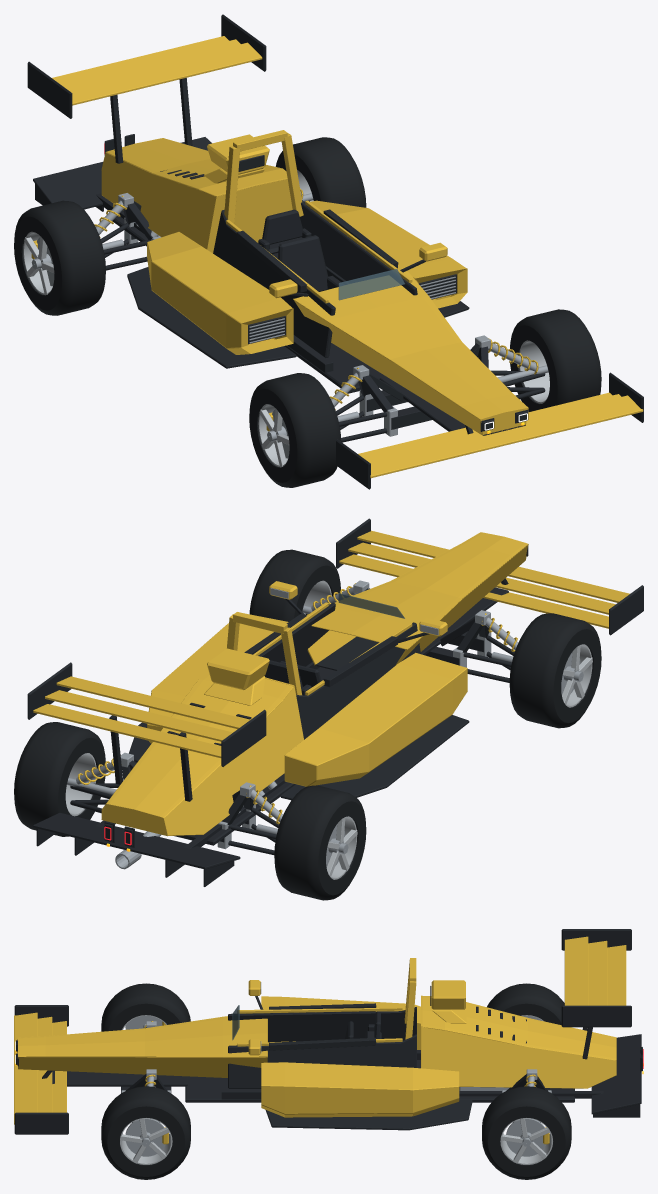
The model's file is formula-r001.glb.
3 renders of one model, top to bottom at view 1: azimuth 30°, elevation 25°; view 2: azimuth 150°, elevation 25°; view 3: azimuth 270°, elevation 25°, orthographic. The views are drawn at different scales.
Visible parts, largest first — view 1: hood.paint, trunk.paint, right-door.paint, wheel:3.rubber, wheel:1.rubber, front-bumper.paint, cabin.dark, spoiler.paint, frame.dark, wheel:0.rubber, left-door.paint, wheel:2.rubber (+17 smaller); view 2: trunk.paint, right-door.paint, hood.paint, wheel:1.rubber, wheel:3.rubber, spoiler.paint, front-bumper.paint, wheel:2.rubber, cabin.dark, rear-bumper.dark, frame.dark, wheel:0.rubber (+17 smaller); view 3: trunk.paint, hood.paint, left-door.paint, cabin.dark, wheel:0.rubber, wheel:2.rubber, frame.dark, spoiler.paint, front-bumper.paint, rear-bumper.dark, left-floor.dark, spoiler.dark (+13 smaller).
Part boxes in pixels (x1,y1,x2,y2): hood.paint: [293, 271, 528, 435]; trunk.paint: [101, 138, 292, 253]; right-door.paint: [147, 232, 293, 354]; wheel:3.rubber: [14, 200, 105, 315]; wheel:1.rubber: [249, 373, 341, 487]; front-bumper.paint: [358, 392, 643, 478]; cabin.dark: [213, 200, 417, 357]; spoiler.paint: [52, 36, 262, 105]; frame.dark: [96, 193, 488, 431]; wheel:0.rubber: [510, 309, 601, 411]; left-door.paint: [310, 200, 467, 308]; wheel:2.rubber: [275, 137, 366, 207]; trunk.paint: [101, 672, 303, 836]; right-door.paint: [284, 652, 467, 786]; hood.paint: [306, 532, 528, 665]; wheel:1.rubber: [509, 613, 601, 728]; wheel:3.rubber: [274, 785, 366, 900]; spoiler.paint: [33, 676, 249, 758]; front-bumper.paint: [339, 530, 629, 628]; wheel:2.rubber: [14, 722, 105, 836]; cabin.dark: [258, 603, 420, 739]; rear-bumper.dark: [33, 813, 240, 886]; frame.dark: [96, 587, 508, 848]; wheel:0.rubber: [249, 549, 340, 621]; trunk.paint: [421, 995, 616, 1088]; hood.paint: [18, 1016, 267, 1077]; left-door.paint: [261, 1062, 459, 1117]; cabin.dark: [228, 1007, 416, 1088]; wheel:0.rubber: [101, 1086, 190, 1179]; wheel:2.rubber: [482, 1086, 571, 1179]; frame.dark: [52, 1027, 603, 1102]; spoiler.paint: [564, 936, 626, 1005]; front-bumper.paint: [14, 1012, 66, 1124]; rear-bumper.dark: [591, 1034, 641, 1117]; left-floor.dark: [265, 1100, 472, 1130]; spoiler.dark: [561, 929, 631, 1059].
Size of the model in its own units: 2.2 by 1.29 by 4.77.
